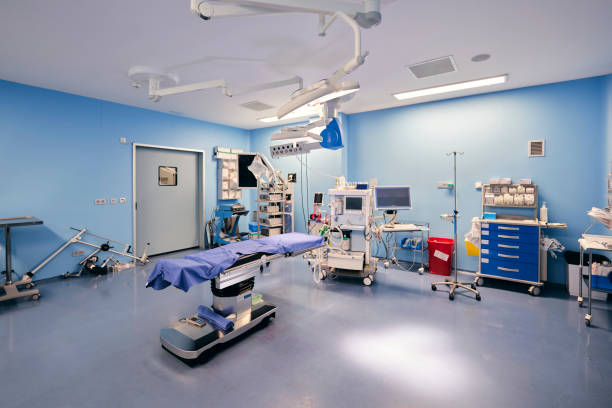bedside_monitor: (309, 193, 326, 211), (345, 195, 362, 213)
breathing_tube: (329, 224, 347, 255)
computer: (373, 184, 427, 233)
door_handle: (130, 199, 140, 215)
electrosurgical_unit: (223, 205, 249, 218)
handle: (497, 266, 519, 273), (497, 234, 519, 240), (498, 253, 519, 259), (498, 244, 520, 249), (497, 227, 519, 230)
iv_pole: (446, 149, 466, 278)
keyboard: (384, 222, 421, 232)
medical_drawer: (473, 223, 544, 295)
operating_bed: (146, 232, 326, 361)
surgical_light: (280, 81, 363, 119)
utility_cart: (1, 214, 46, 301), (575, 235, 612, 326)
ventilator: (316, 189, 377, 291)
waste_bin: (561, 249, 612, 302), (426, 237, 454, 275)
